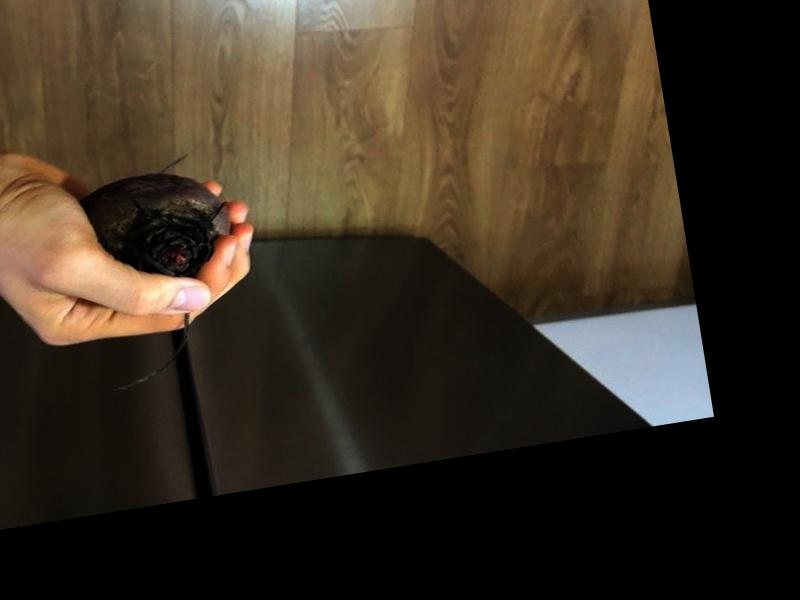Beet: (76, 162, 255, 393)
